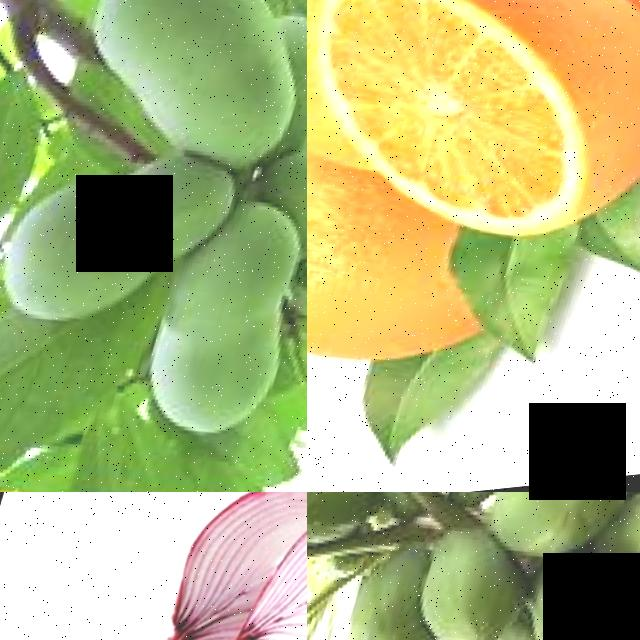onion: (158, 492, 307, 640)
orange: (307, 0, 640, 272), (307, 139, 410, 382)
pawpaw: (412, 533, 549, 640), (492, 492, 640, 580), (515, 556, 640, 640), (339, 541, 444, 640), (307, 492, 389, 558)
